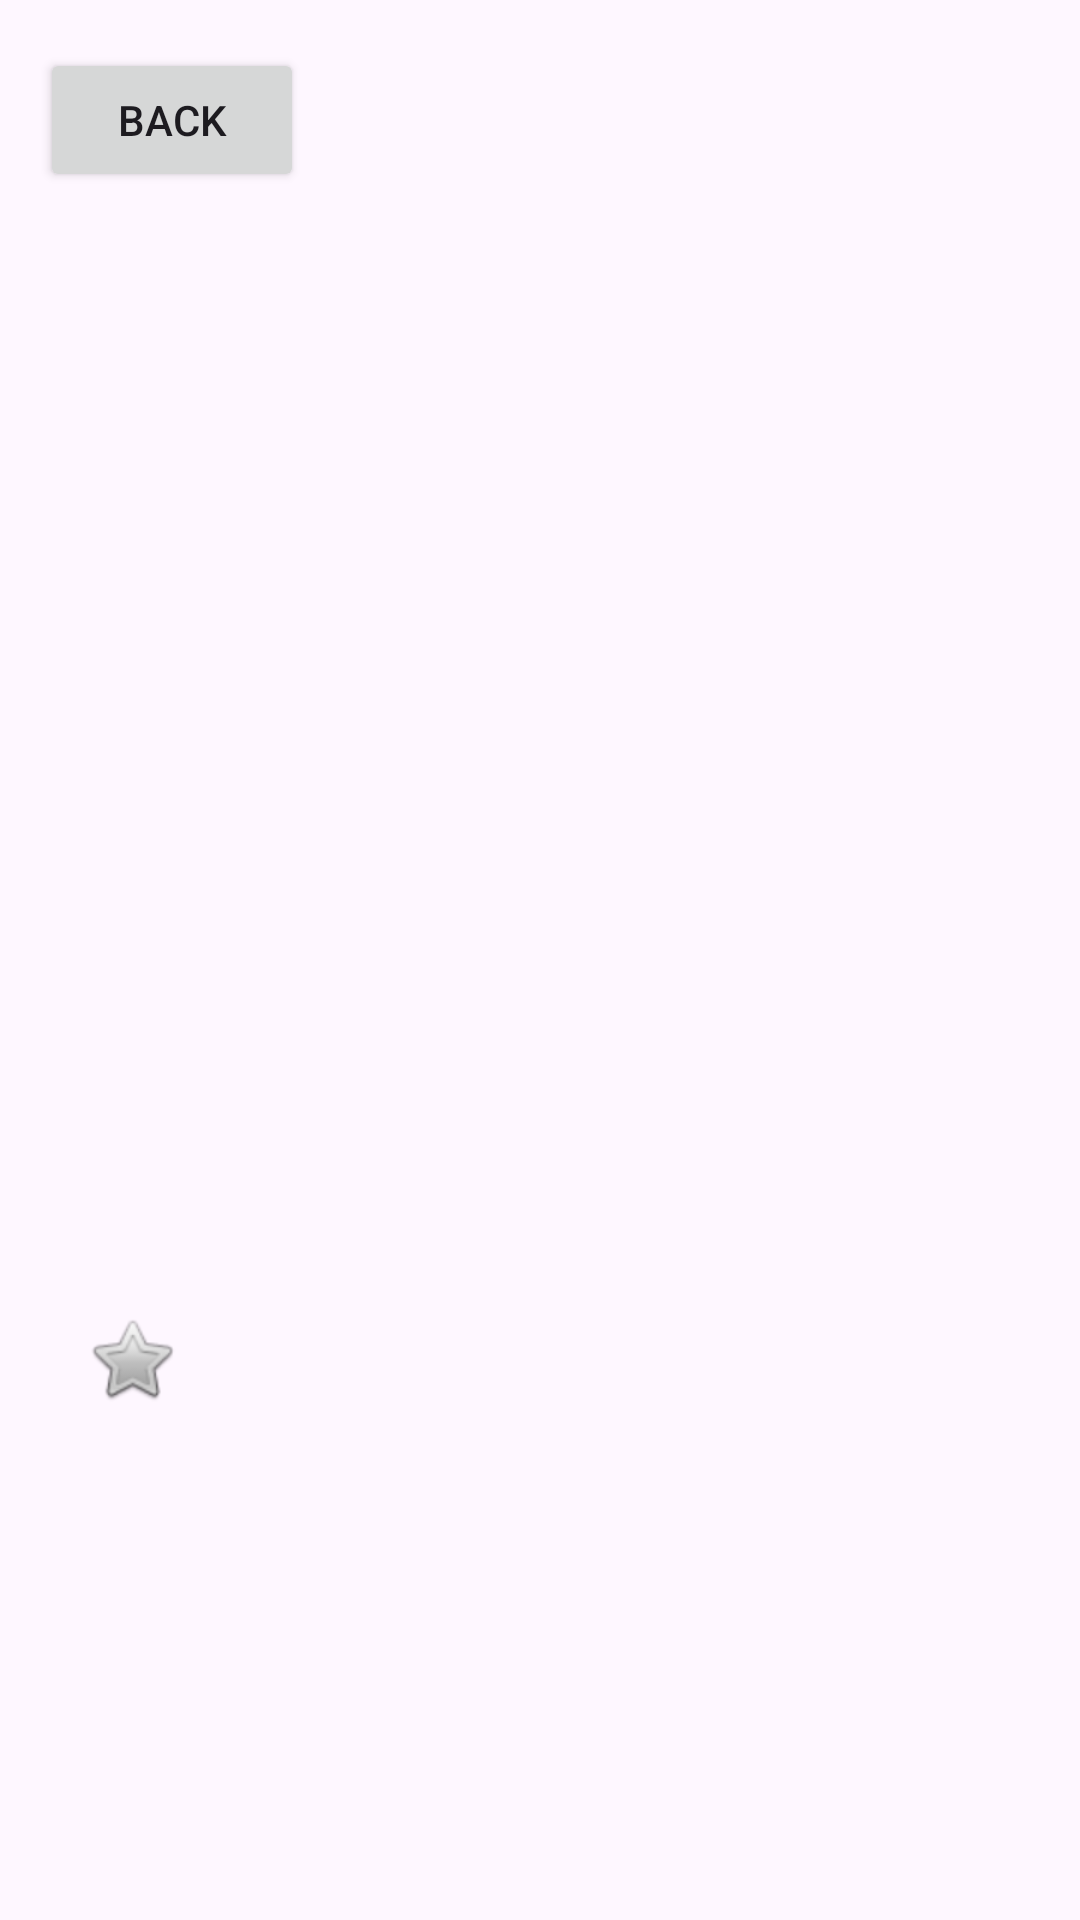

Where to tap for icons on this 1080px x 1920px app screen, as point (x, y):
Favorites: point (133, 1360)
